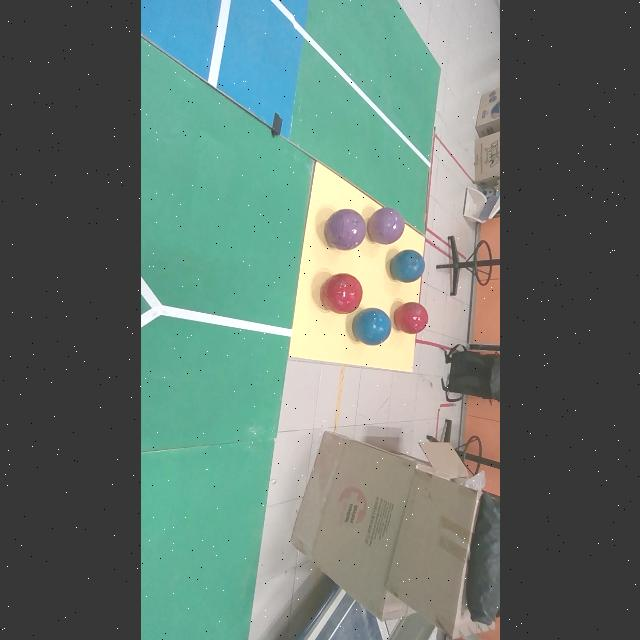B: (353, 308, 390, 345), (391, 250, 425, 282)
P: (325, 208, 366, 250), (367, 207, 405, 245)
R: (320, 273, 363, 314), (394, 302, 428, 334)
